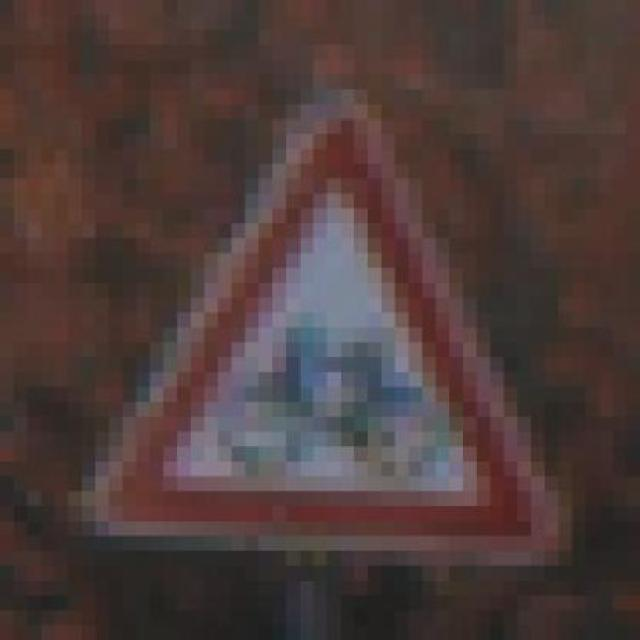CYCLE ROUTE AHEAD WARNING: (54, 29, 586, 566)
